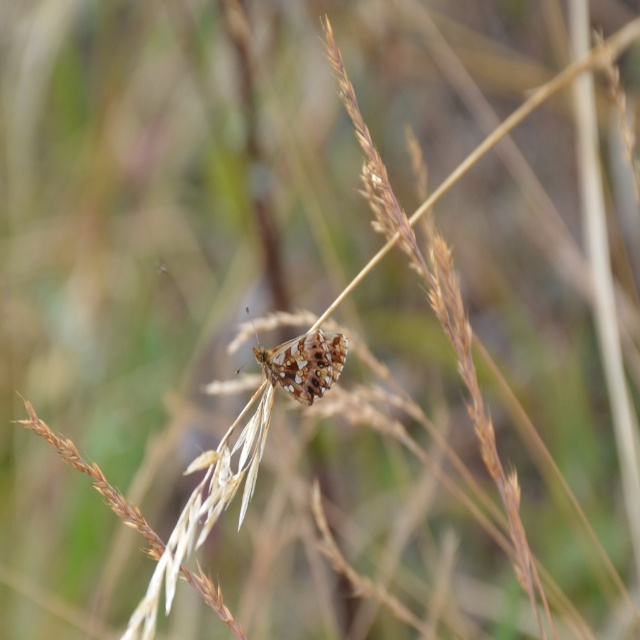Butterfly: (239, 316, 356, 418)
